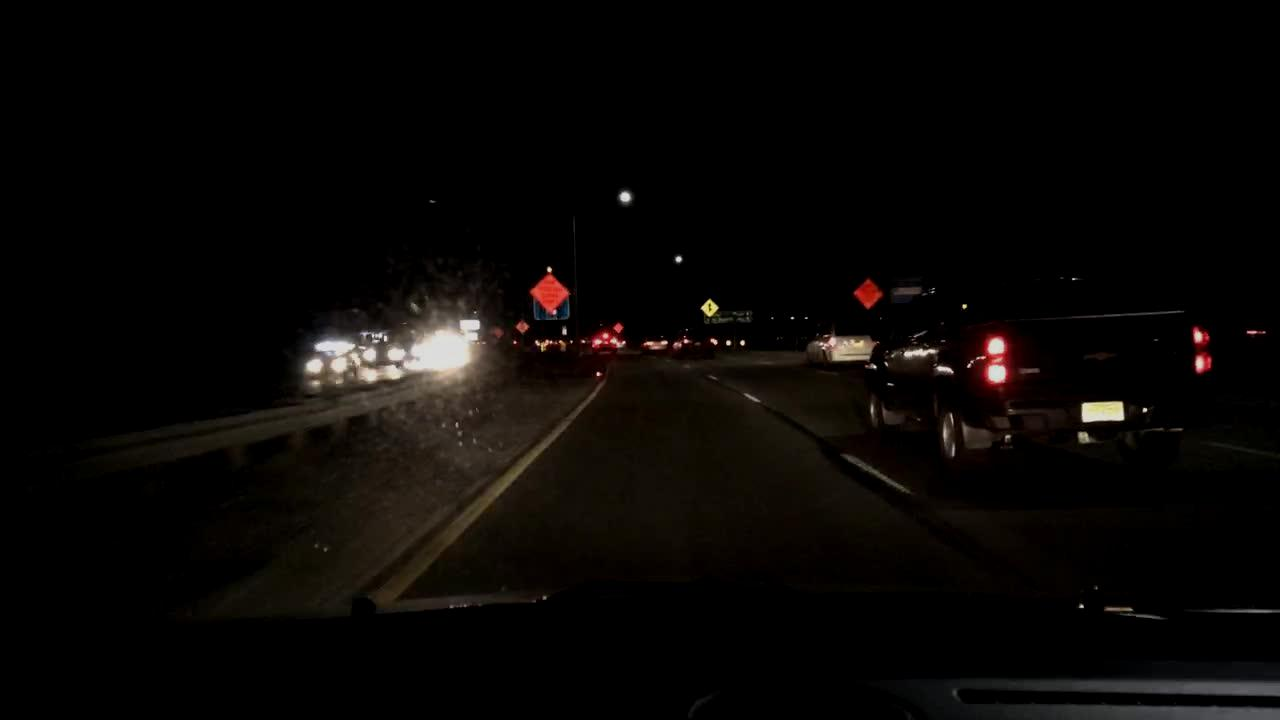chevrolet: (1073, 342, 1124, 368)
